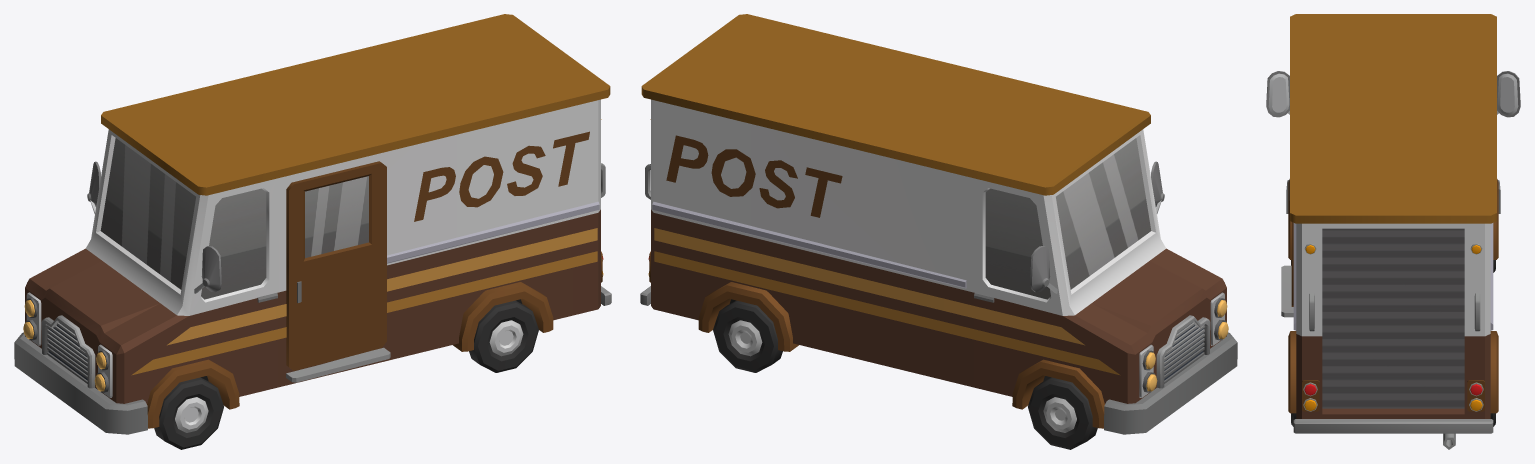
The model's file is PostCar_1_F.gltf.
3 views of the same model, side by side, from view 1: azimuth 30°, elevation 25°; view 2: azimuth 150°, elevation 25°; view 3: azimuth 270°, elevation 25° (orthographic).
Parts seen in each view (by area): view 1: PostCar_1_F, RL, FL; view 2: PostCar_1_F, RR, FR; view 3: PostCar_1_F.
Part boxes in pixels (x1=…): PostCar_1_F: x1=14, y1=14, x2=611, y2=434; RL: x1=469, y1=300, x2=538, y2=372; FL: x1=154, y1=377, x2=223, y2=449; PostCar_1_F: x1=640, y1=14, x2=1237, y2=434; RR: x1=713, y1=300, x2=782, y2=372; FR: x1=1028, y1=377, x2=1097, y2=449; PostCar_1_F: x1=1266, y1=14, x2=1520, y2=449.
Size of the model in its own units: 4.14 by 2.02 by 1.8.
Materials: 5 (5 with a texture image).
